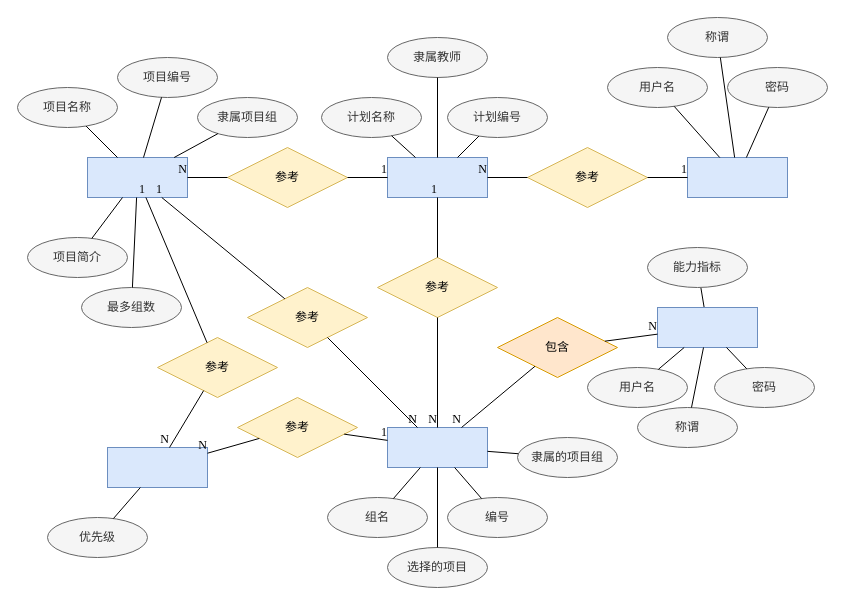
Image size: 845x605. Some labels were removed from this diagram. Here are the shapes that lost their labels. From the top down, the centre of each, then its label:
At point 137,177: "项目".
At point 437,177: "项目组（课程）".
At point 737,177: "教授".
At point 707,327: "学生".
At point 157,467: "志愿选择".
At point 437,447: "小组".
